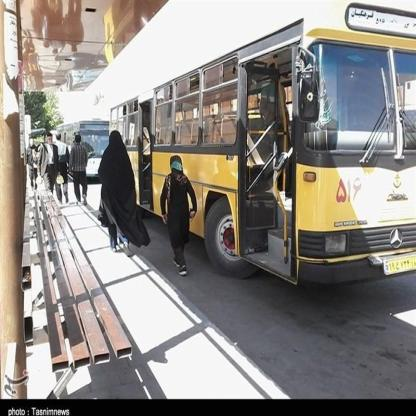Bus: (111, 0, 416, 313), (53, 108, 115, 180)
